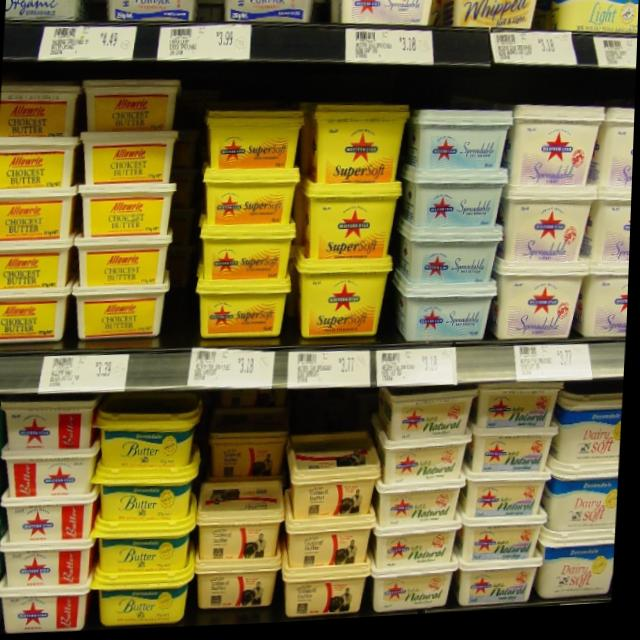q289: (511, 110, 606, 202), (501, 202, 593, 281), (499, 282, 587, 352)
